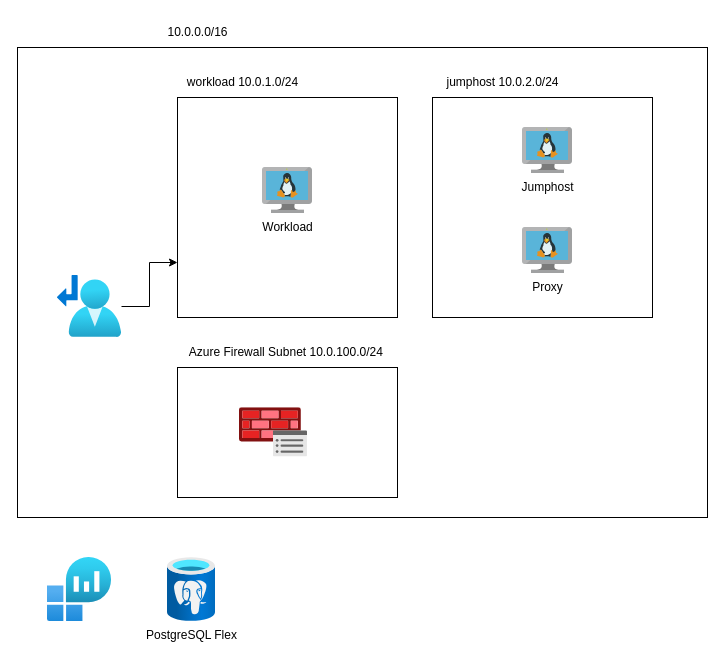
The diagram is 725 pixels wide and 659 high, and some of its shapes have lost their labels. The shapes that lost their labels are listed below. From the top down, each one's centre as x and y in pixels, then its label:
(x=89, y=306): route table 0.0.0.0 -> AzFw
(x=79, y=589): log analytics
